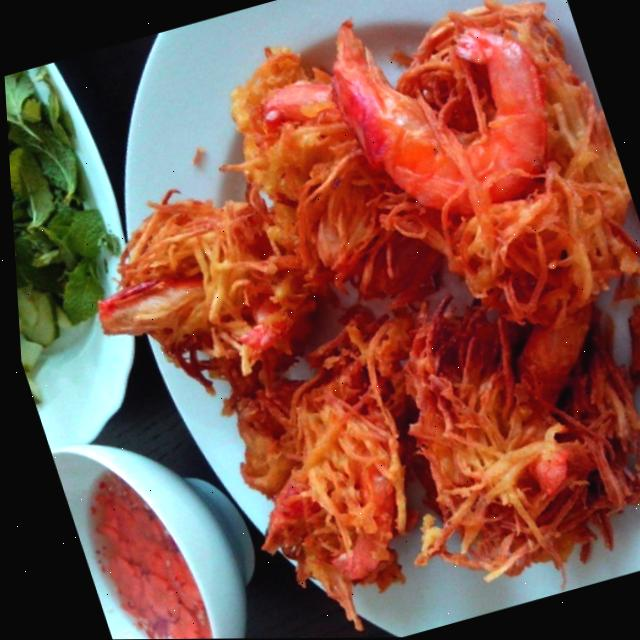炸货点心: (15, 0, 640, 640)
熟制海鲜: (15, 0, 640, 640)
